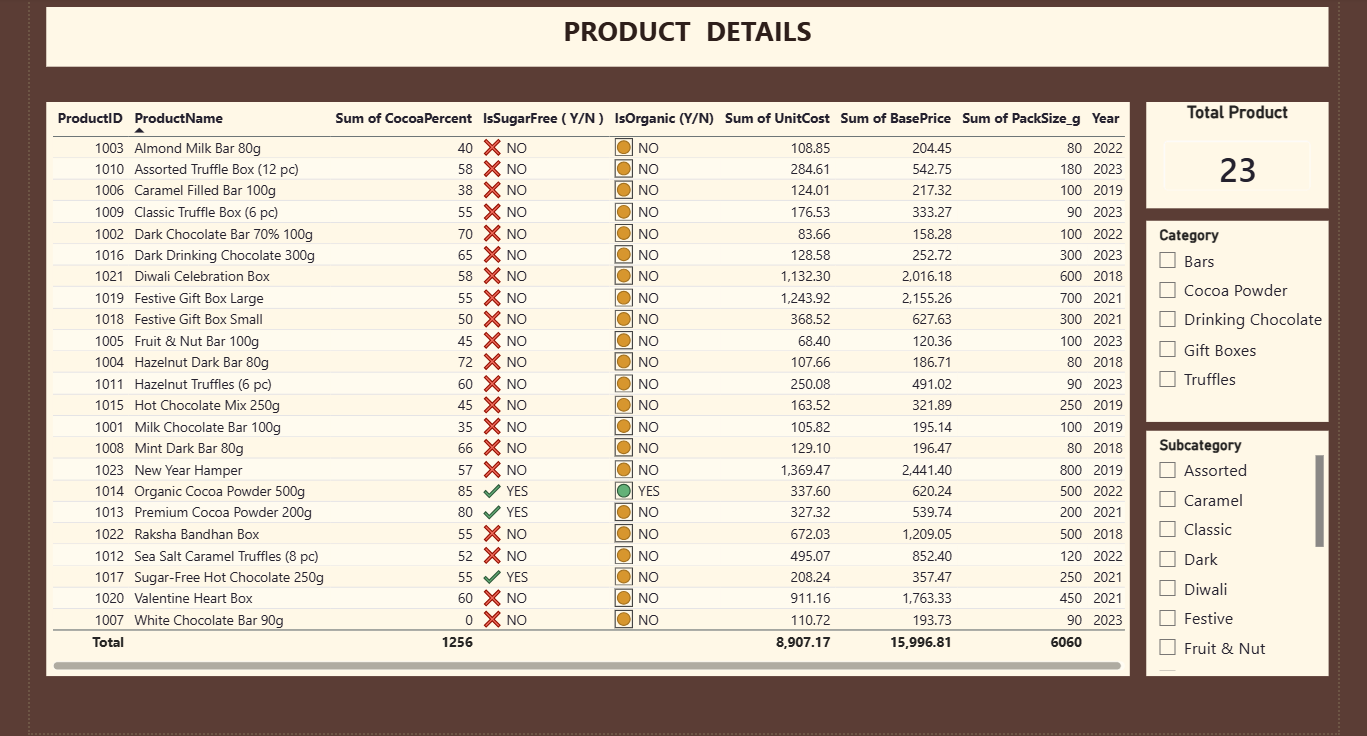

Layout of this report page (visuals, bound fields, positions):
{"tool":"powerbi","page":{"name":"Products","canvas":[1280,720],"ordinal":0},"visuals":[{"type":"textbox","box":[15.9,9.8,1254.6,58.7],"z":0},{"type":"tableEx","fields":{"Values":["DimProduct.ProductID","DimProduct.ProductName","Sum(DimProduct.CocoaPercent)","DimProduct.IsSugarFree ( Y/N )","DimProduct.IsOrganic (Y/N)","Sum(DimProduct.UnitCost)","Sum(DimProduct.BasePrice)","Sum(DimProduct.PackSize_g)","DimProduct.LaunchDate.Variation.Date Hierarchy.Year"]},"box":[15.9,102.7,1060.2,561.3],"z":1000},{"type":"slicer","fields":{"Values":["DimProduct.Category"]},"box":[1092,218.9,178.5,196.9],"z":2000},{"type":"slicer","fields":{"Values":["DimProduct.Subcategory"]},"box":[1092,424.3,178.5,239.7],"z":3000},{"type":"cardVisual","title":"Total Product","fields":{"Data":["Count(DimProduct.ProductID)"]},"box":[1092,102.7,178.5,103.9],"z":4000}]}

Visuals, with their boxes on the page's 1280x720 design canvas (x1, y1, x2, y2). These are canvas units, not pixel positions in the 1367x736 screenshot, which may show the page scaled, cropped or inside an application window:
textbox: rect(16, 10, 1270, 68)
tableEx - DimProduct.ProductID x DimProduct.ProductName: rect(16, 103, 1076, 664)
slicer - DimProduct.Category: rect(1092, 219, 1270, 416)
slicer - DimProduct.Subcategory: rect(1092, 424, 1270, 664)
"Total Product" cardVisual: rect(1092, 103, 1270, 207)
